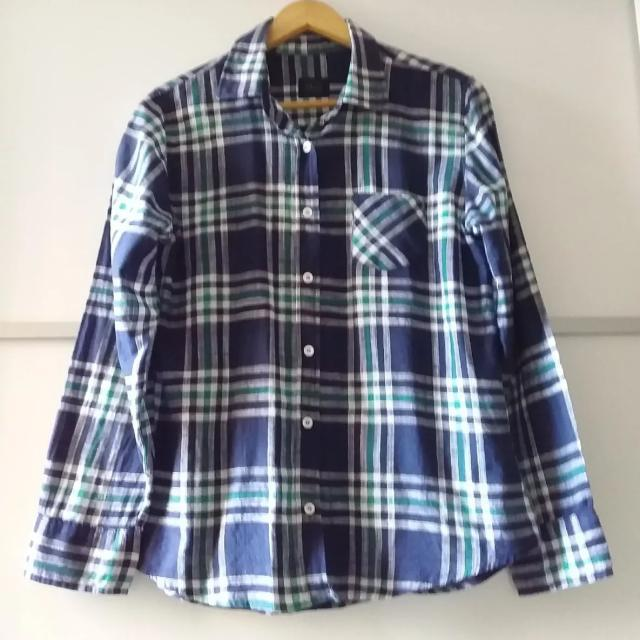long sleeve shirt: (19, 13, 618, 618)
